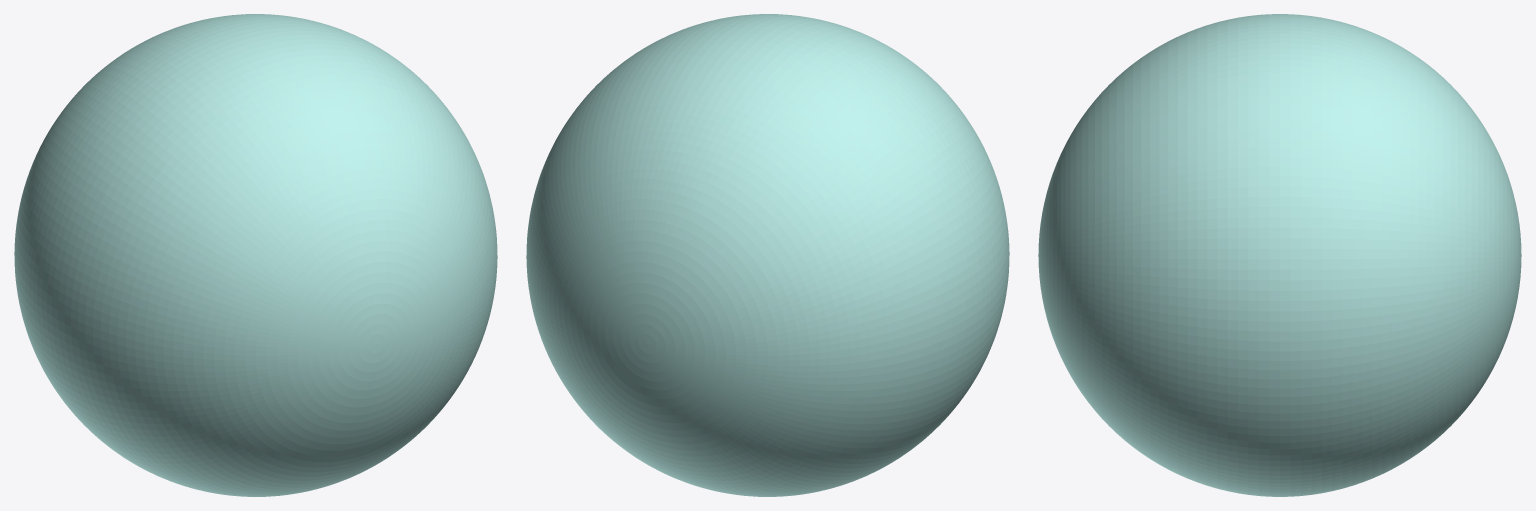
Rendered from EEZYbotARM_Mk2_robot_base_vis_24.dae.
3 views of the same model, side by side, from view 1: azimuth 30°, elevation 25°; view 2: azimuth 150°, elevation 25°; view 3: azimuth 270°, elevation 25° (orthographic).
Parts seen in each view (by area): view 1: node; view 2: node; view 3: node.
Part boxes in pixels (x1,y1,x2,y2): node: (14, 14, 497, 496); node: (526, 14, 1009, 496); node: (1038, 14, 1521, 496).
Bounding box in the file's own units: 0.006 × 0.006 × 0.006.
